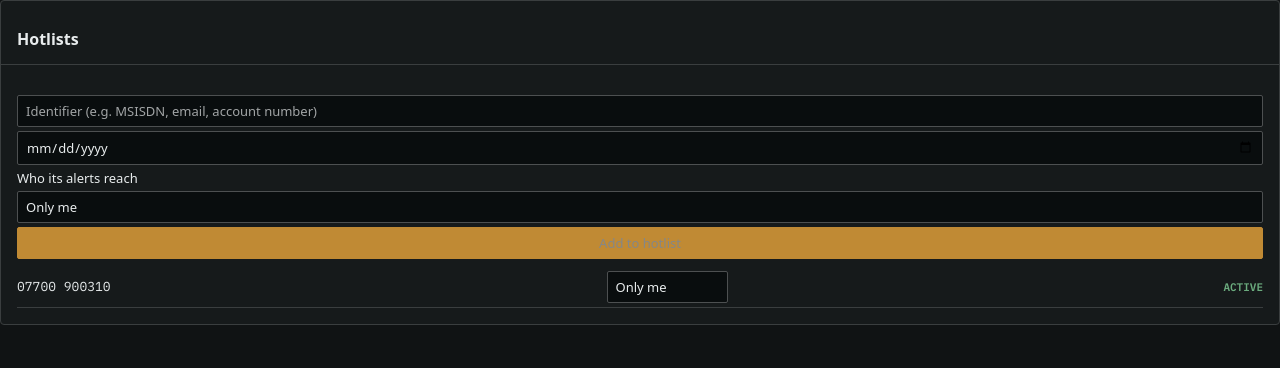
Test: a hotlist's audience › is changed by its owner on an existing hotlist
Select "Me and my team" in the dropdown named "Who alerts from 07700 900310 reach" at (667, 286), box [606, 270, 728, 302]
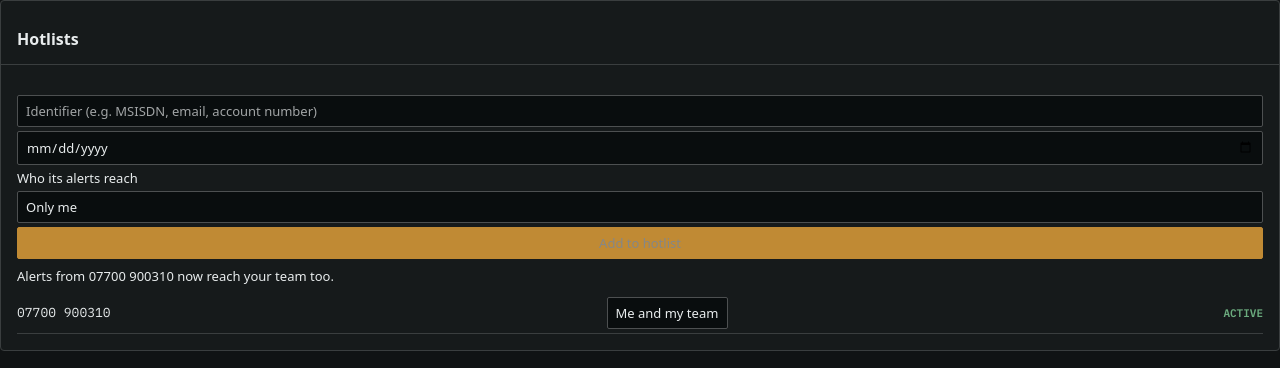
expect the text "Alerts from 07700 900310 now reach your team too." is shown: met, box [17, 266, 334, 284]
